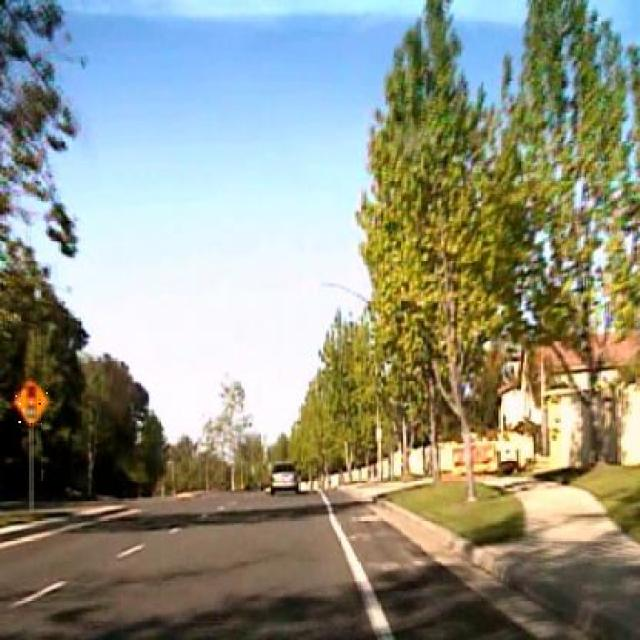signalAhead: (12, 377, 49, 429)
